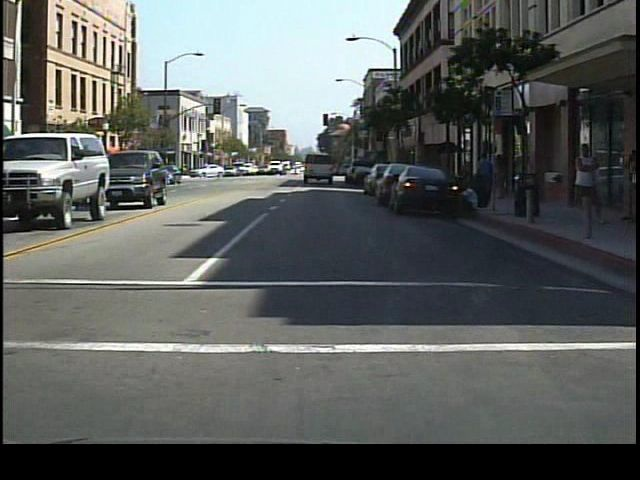person: (569, 126, 605, 229), (473, 141, 495, 202), (491, 148, 513, 206)
